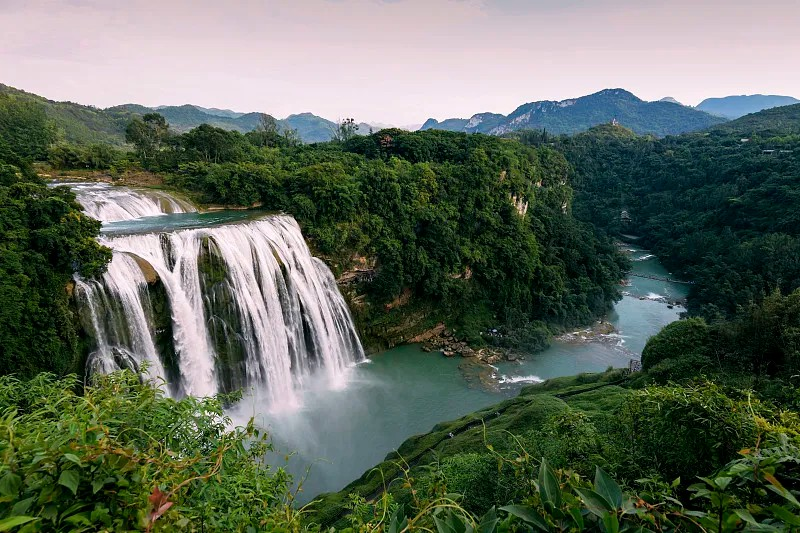Huangguoshu: (45, 174, 366, 411)
